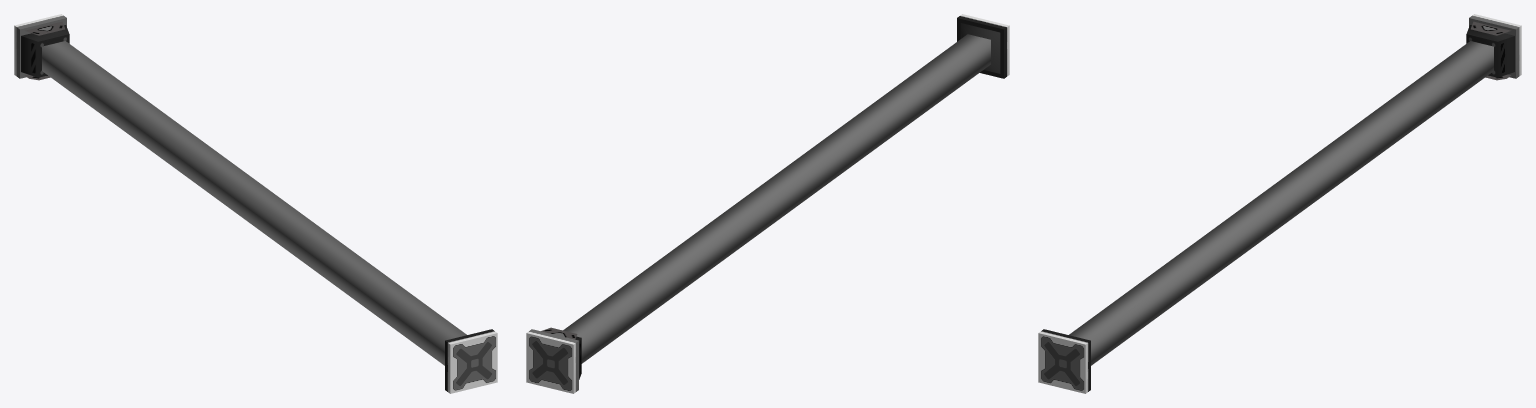
The model's file is obj_interactive_piston_03_on_lod1.fbx.
3 renders of one model, left to right at view 1: azimuth 30°, elevation 25°; view 2: azimuth 150°, elevation 25°; view 3: azimuth 330°, elevation 25°, orthographic.
Parts seen in each view (by area): view 1: obj_interactive_piston_03_on_lod1; view 2: obj_interactive_piston_03_on_lod1; view 3: obj_interactive_piston_03_on_lod1.
Boxes of the visible parts, bbox=[...] form: obj_interactive_piston_03_on_lod1: bbox=[14, 14, 497, 393]; obj_interactive_piston_03_on_lod1: bbox=[526, 14, 1009, 393]; obj_interactive_piston_03_on_lod1: bbox=[1038, 14, 1521, 393].
Size of the model in its own units: 1 by 1 by 16.
